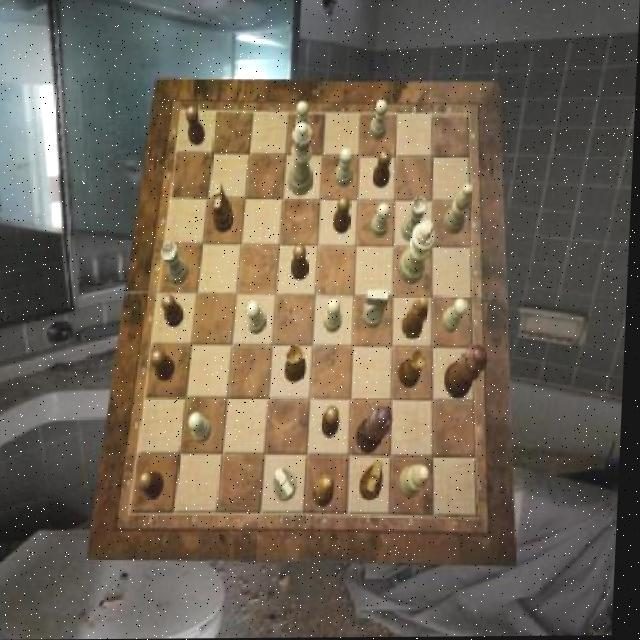bishop: (405, 296, 433, 338), (316, 475, 340, 509)
black-bishop: (360, 407, 397, 453)
black-king: (213, 183, 237, 234), (364, 462, 389, 502)
black-knight: (186, 106, 207, 146), (164, 294, 188, 328), (154, 350, 179, 382), (143, 471, 170, 499), (375, 150, 394, 188), (335, 198, 353, 234), (293, 246, 311, 280), (325, 406, 344, 438)
black-pawn: (447, 345, 492, 400)
black-queen: (402, 350, 430, 387), (288, 344, 312, 383)
black-rook: (445, 185, 475, 236), (402, 465, 434, 499)
white-bishop: (401, 219, 439, 284)
white-king: (365, 290, 391, 329), (278, 469, 303, 503)
white-knight: (445, 299, 471, 334), (192, 412, 217, 443), (336, 149, 355, 189), (372, 101, 390, 141), (250, 301, 271, 335), (373, 202, 392, 237), (327, 300, 346, 334), (297, 101, 314, 139)
white-pawn: (290, 121, 317, 196)
white-queen: (164, 243, 193, 287), (404, 196, 430, 241)
